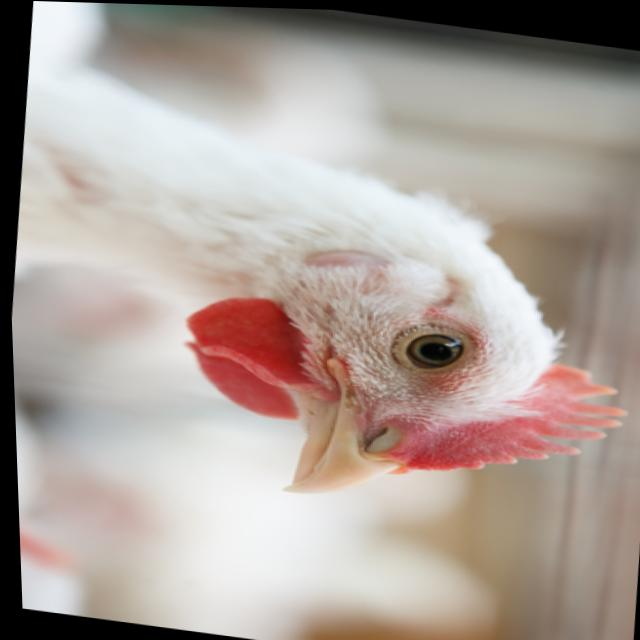Fowl cholera: (234, 339, 501, 529)
